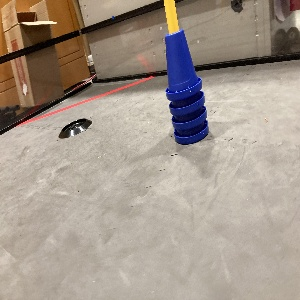Blue_4: (161, 26, 212, 148)
